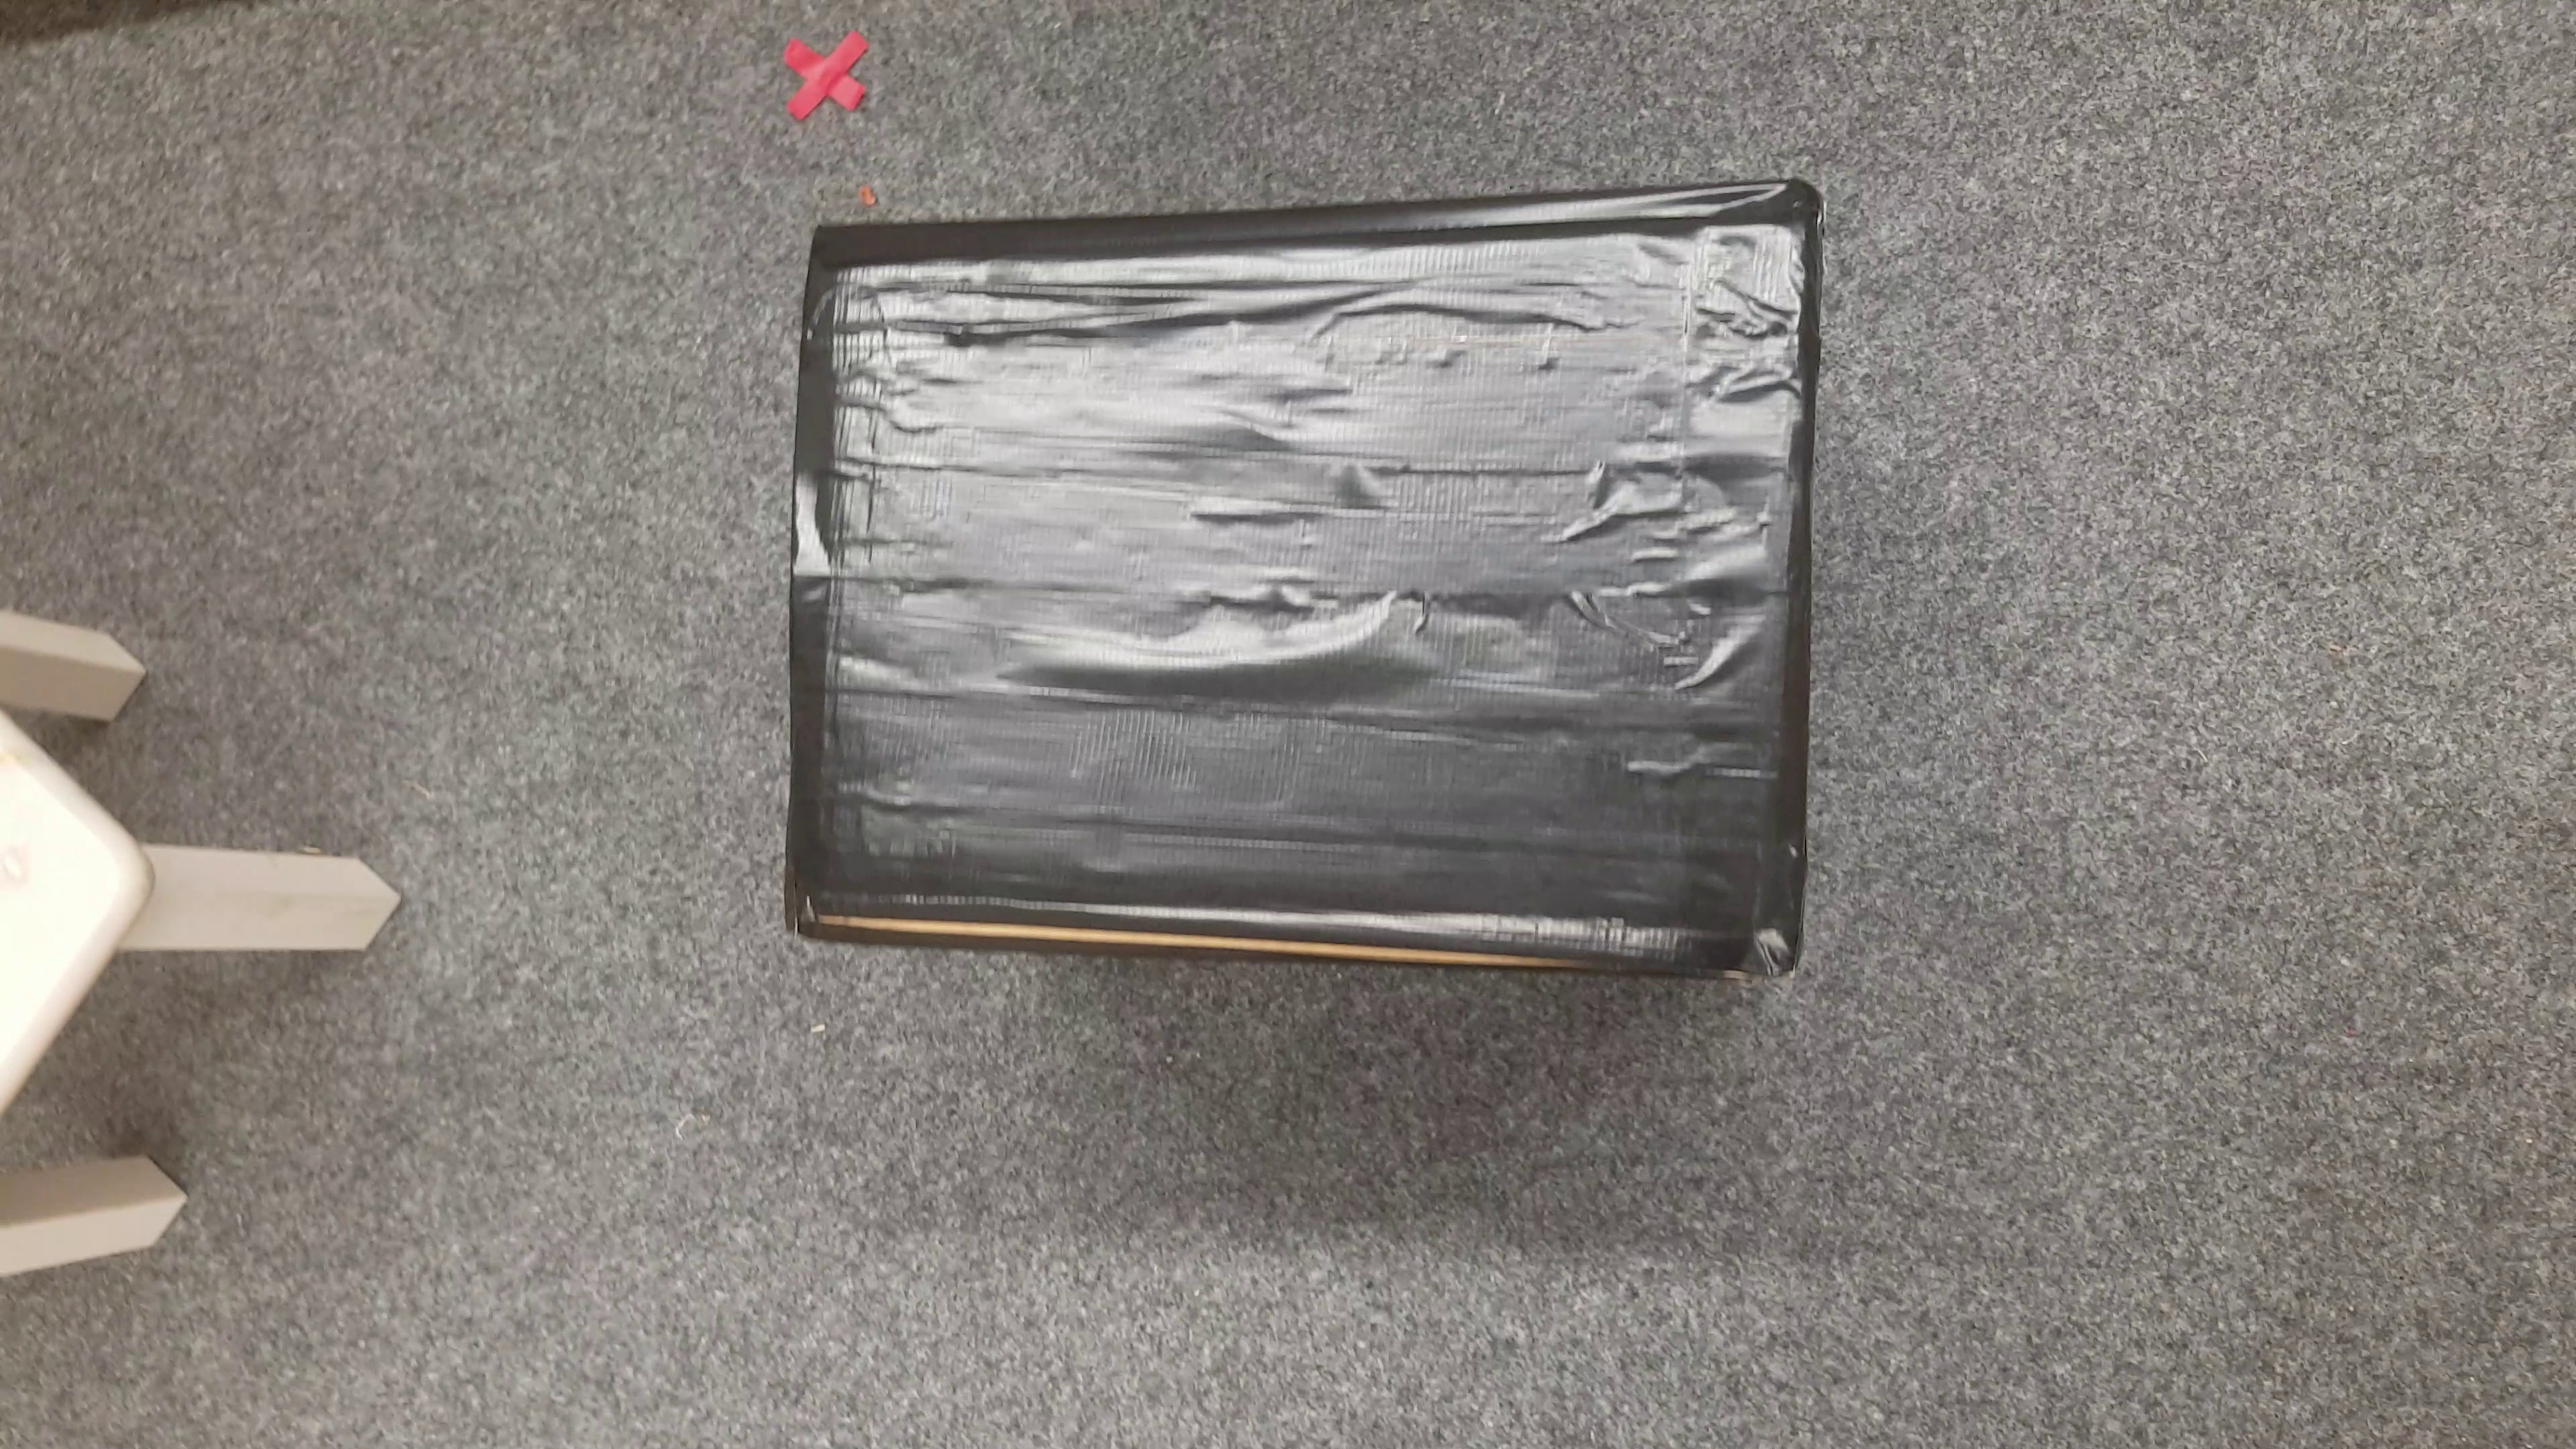push: (784, 205, 1810, 989)
